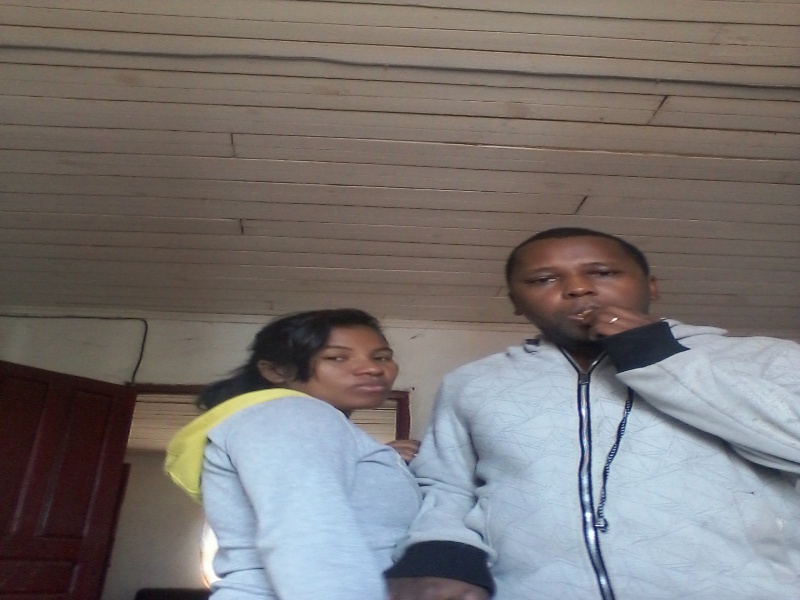TsisyArotava: (492, 218, 673, 366), (290, 299, 412, 424)
